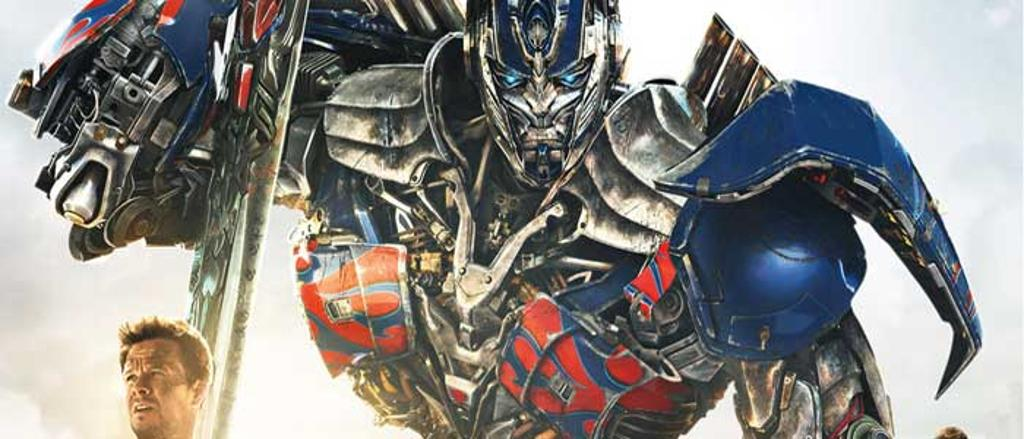face: (118, 346, 180, 430)
